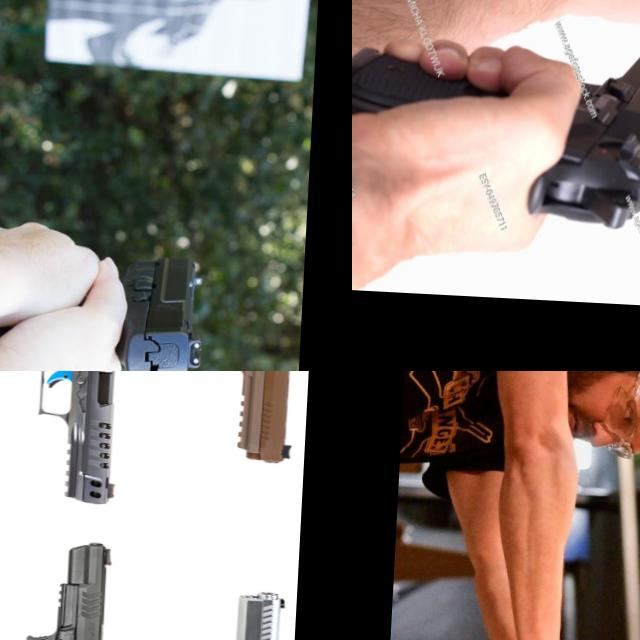handgun: (352, 24, 640, 237), (0, 242, 207, 371), (124, 371, 302, 467), (0, 371, 125, 504), (0, 530, 116, 640), (119, 581, 287, 640)
